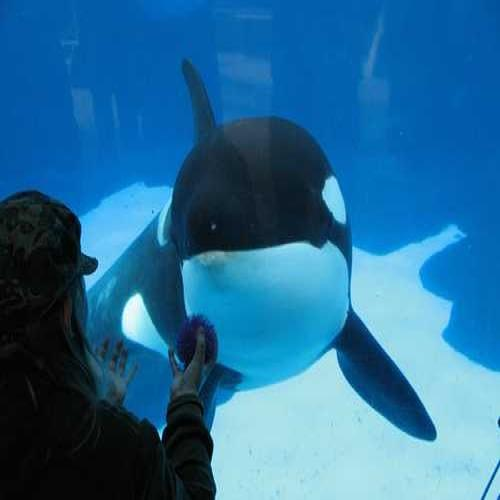killer_whale-endangered: (110, 31, 436, 430)
